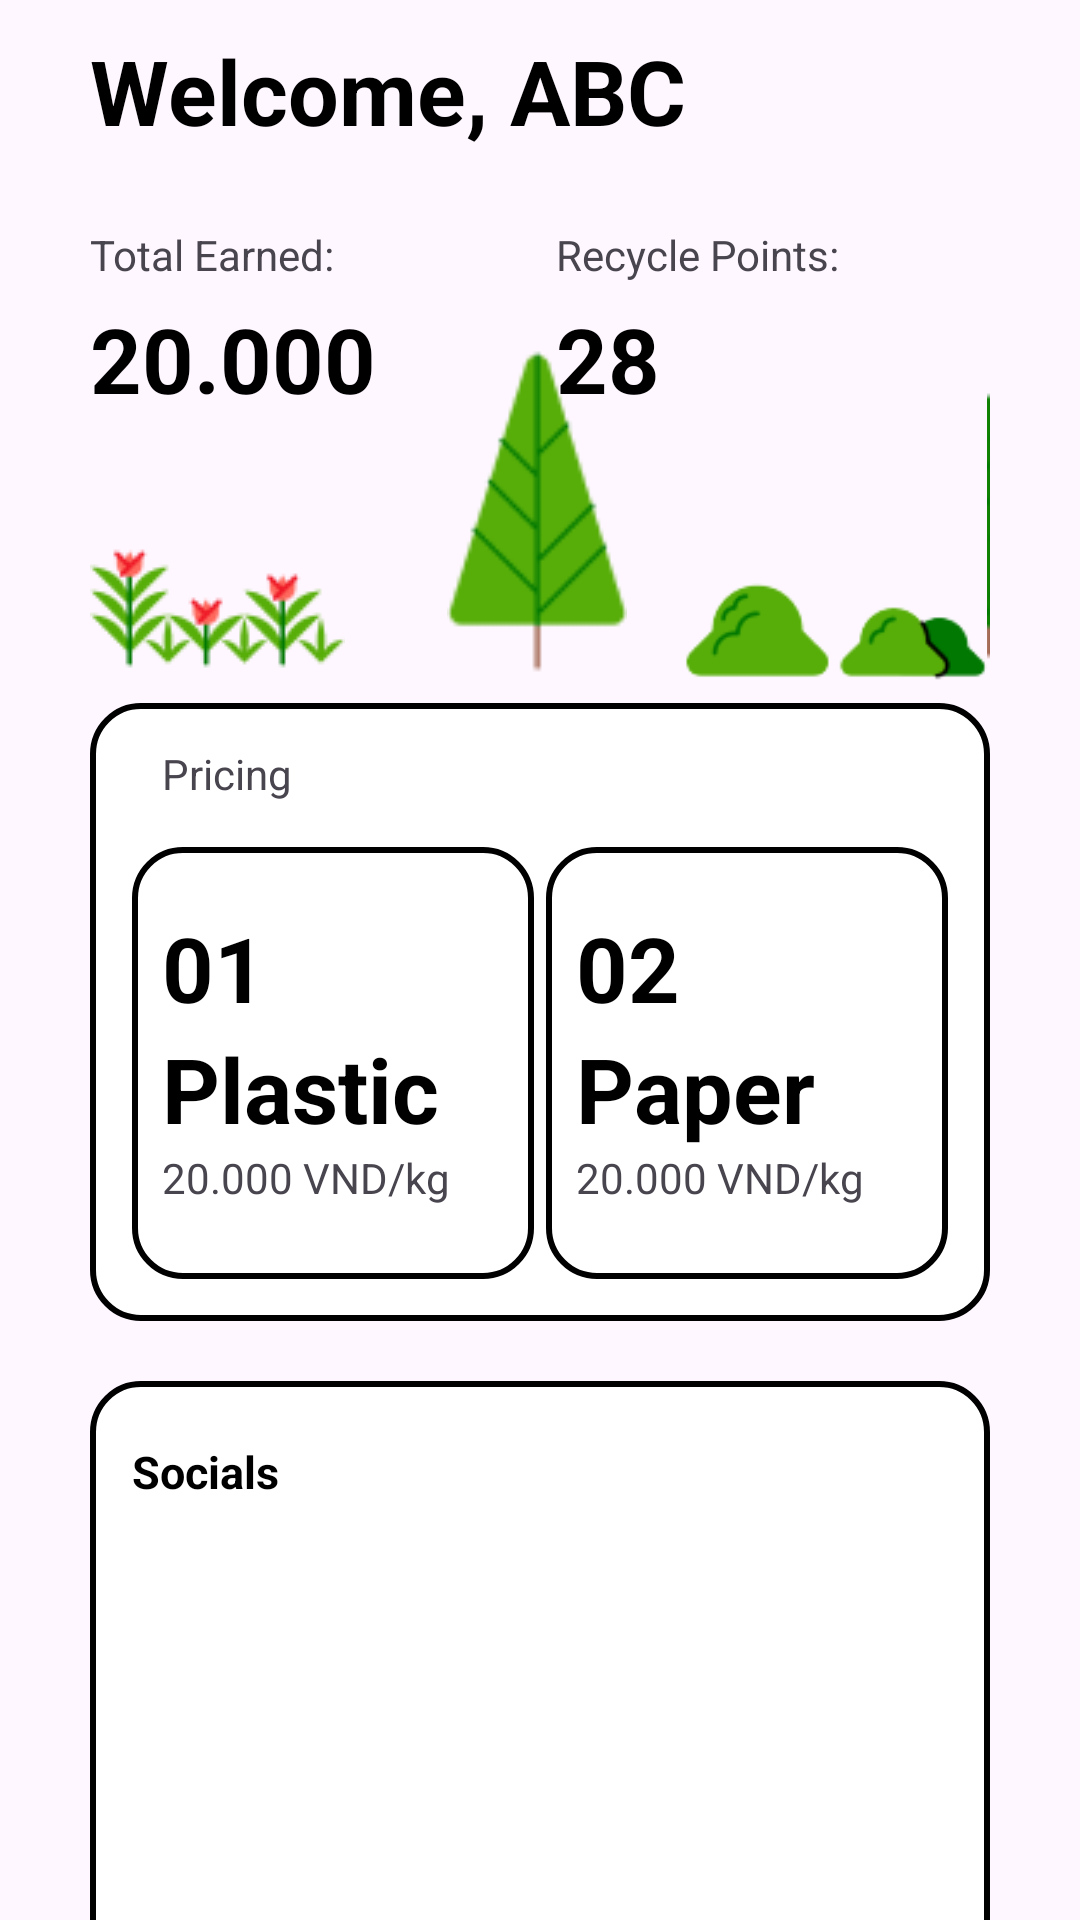

Named icons in this screenshot (1080px×1920px) and their bounding boxes, (x1, y1, x2, y2):
gogreenbigpine: (447, 331, 627, 671)
gogreenbushes: (686, 584, 985, 679)
gogreenroses: (90, 549, 345, 668)
